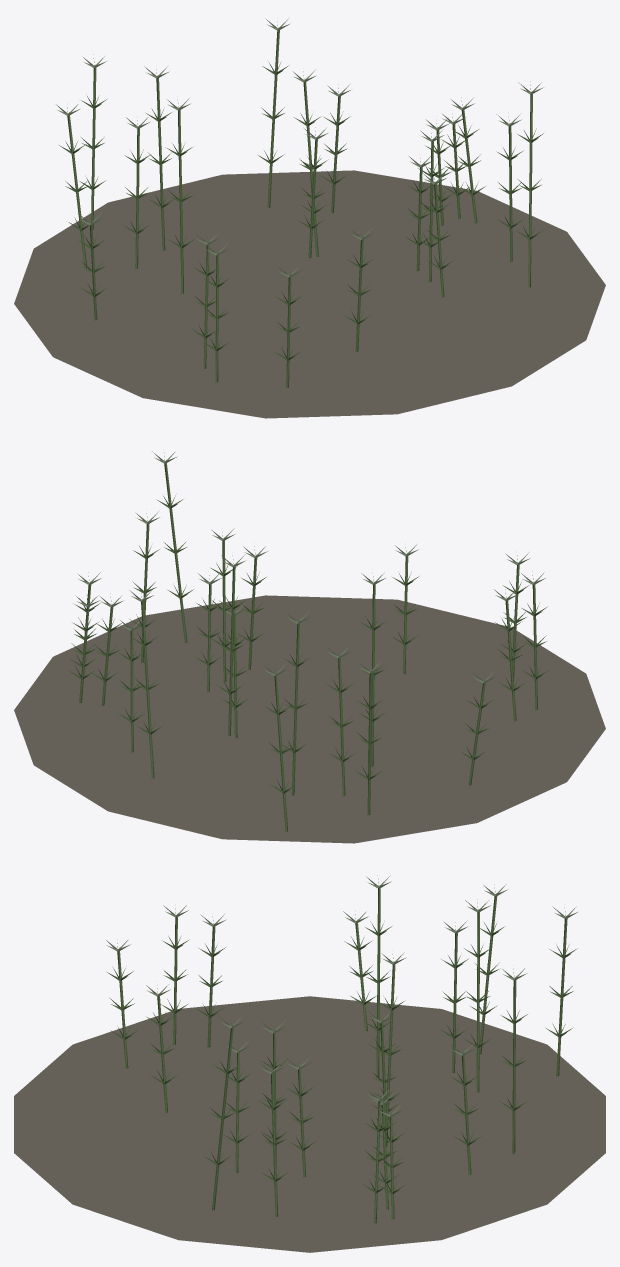
The model's file is lake-chara-shallows-0.glb.
3 renders of one model, top to bottom at view 1: azimuth 30°, elevation 25°; view 2: azimuth 150°, elevation 25°; view 3: azimuth 270°, elevation 25°, orthographic. The views are drawn at different scales.
Visible parts, largest first — view 1: lake-chara-shallows-0; view 2: lake-chara-shallows-0; view 3: lake-chara-shallows-0.
Part boxes in pixels (x1=…): lake-chara-shallows-0: x1=14, y1=18, x2=605, y2=418; lake-chara-shallows-0: x1=14, y1=451, x2=605, y2=843; lake-chara-shallows-0: x1=14, y1=875, x2=605, y2=1252.
Size of the model in its own units: 1 by 0.3595 by 0.9749.
